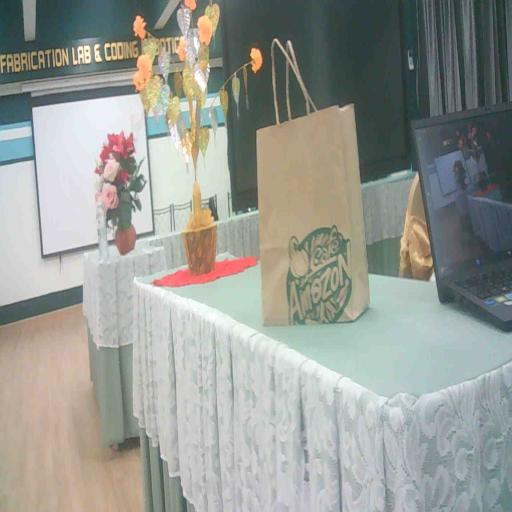bag: (250, 104, 380, 338)
